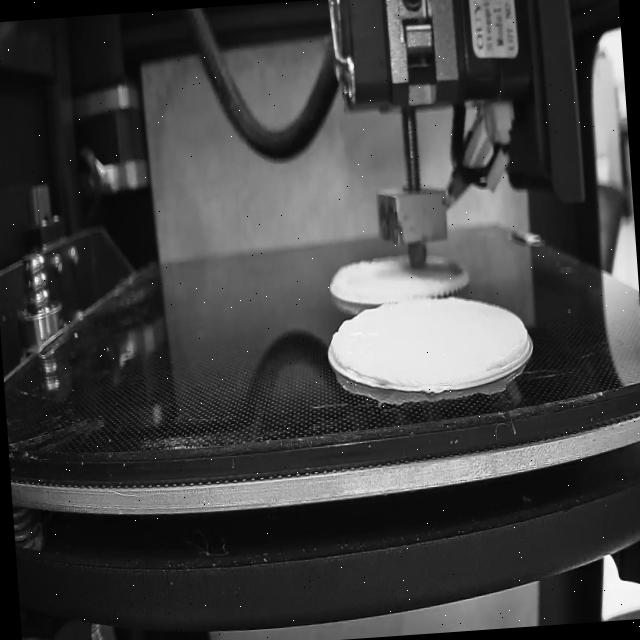over_extrusion: (326, 329, 348, 374)
